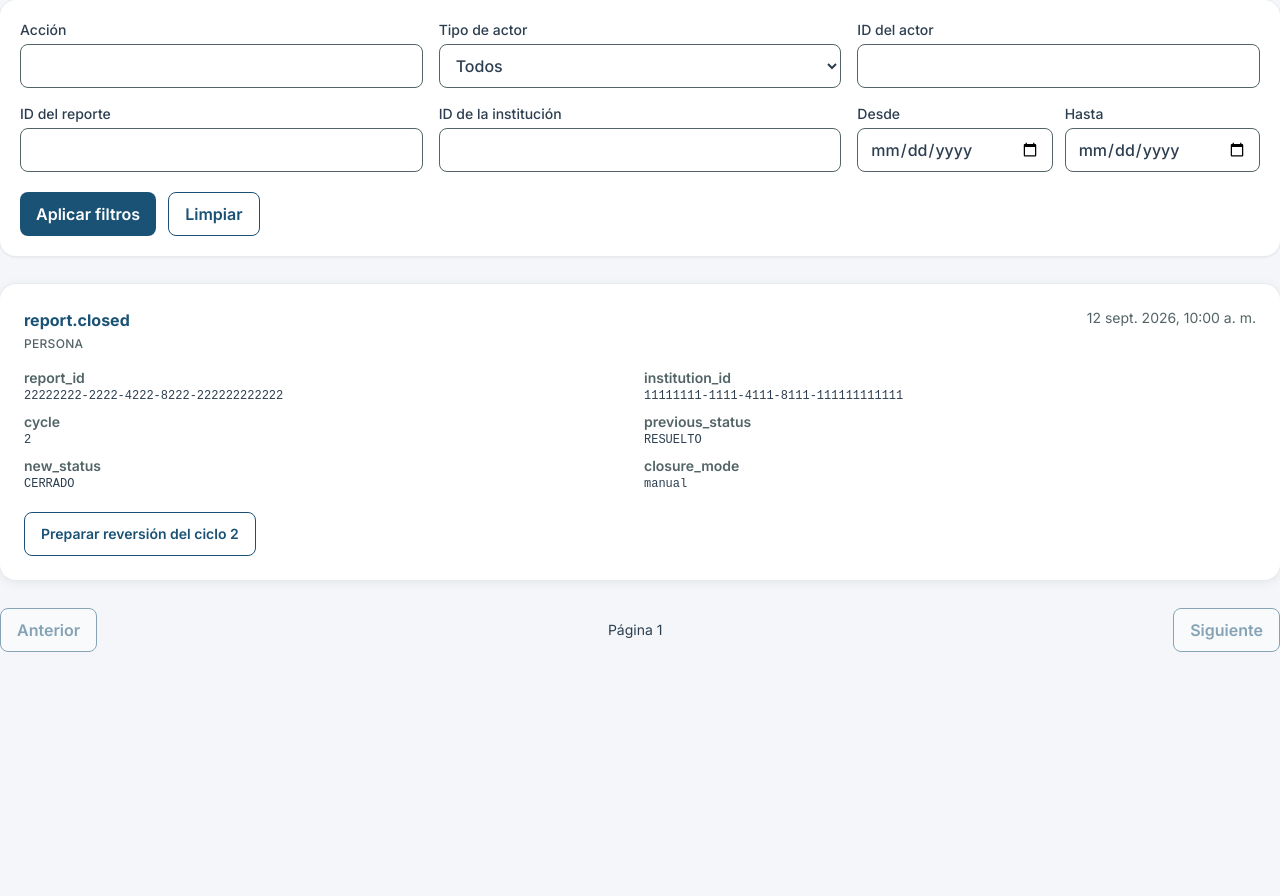
Scenario: consola administrativa S10 › ante ciclo obsoleto cierra la confirmación y actualiza la auditoría
Click the button "Preparar reversión del ciclo 2".
click(140, 534)  # box [24,512,256,556]
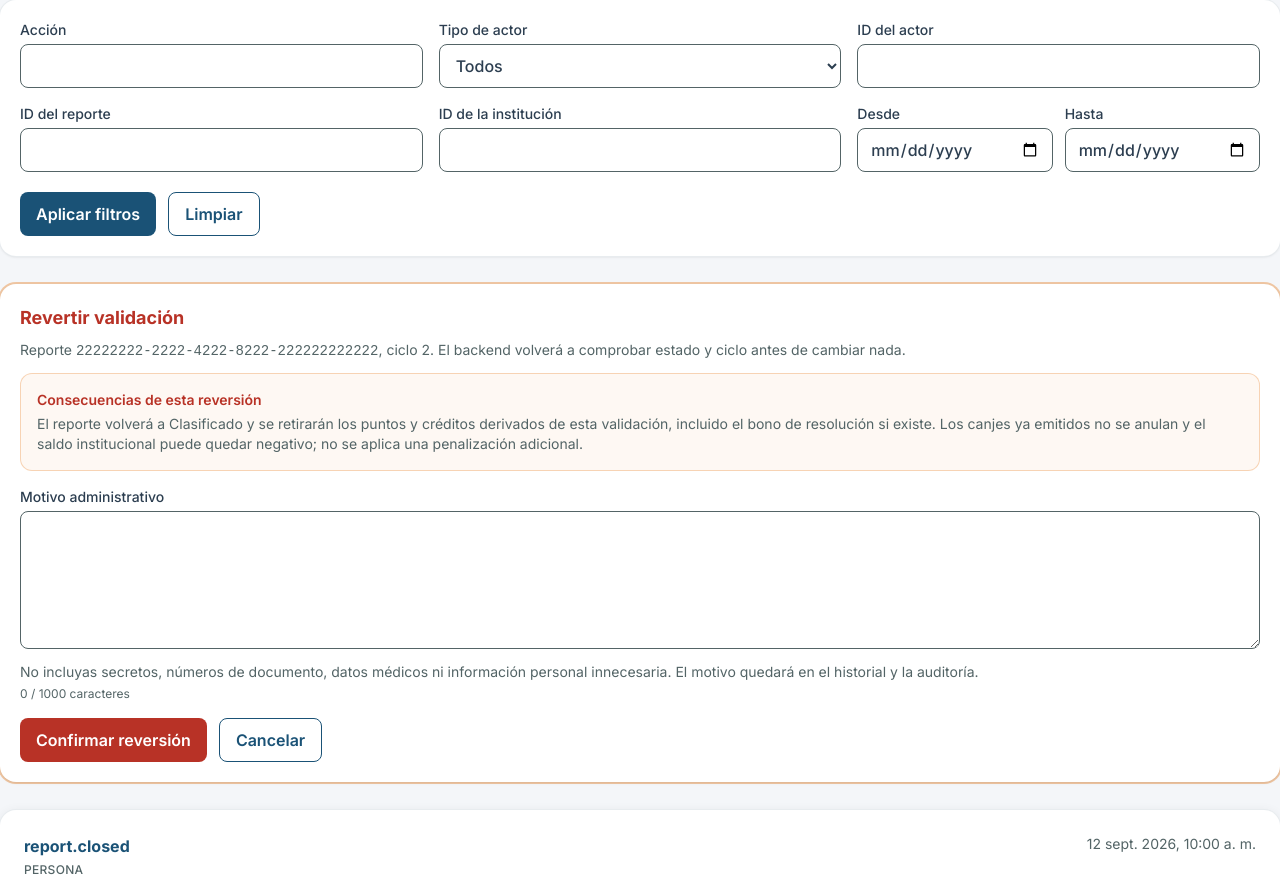
Type "Corrección fundada." into the text box labelled "Motivo administrativo".
click(640, 580); type("Corrección fundada.")  # box [20,511,1260,649]
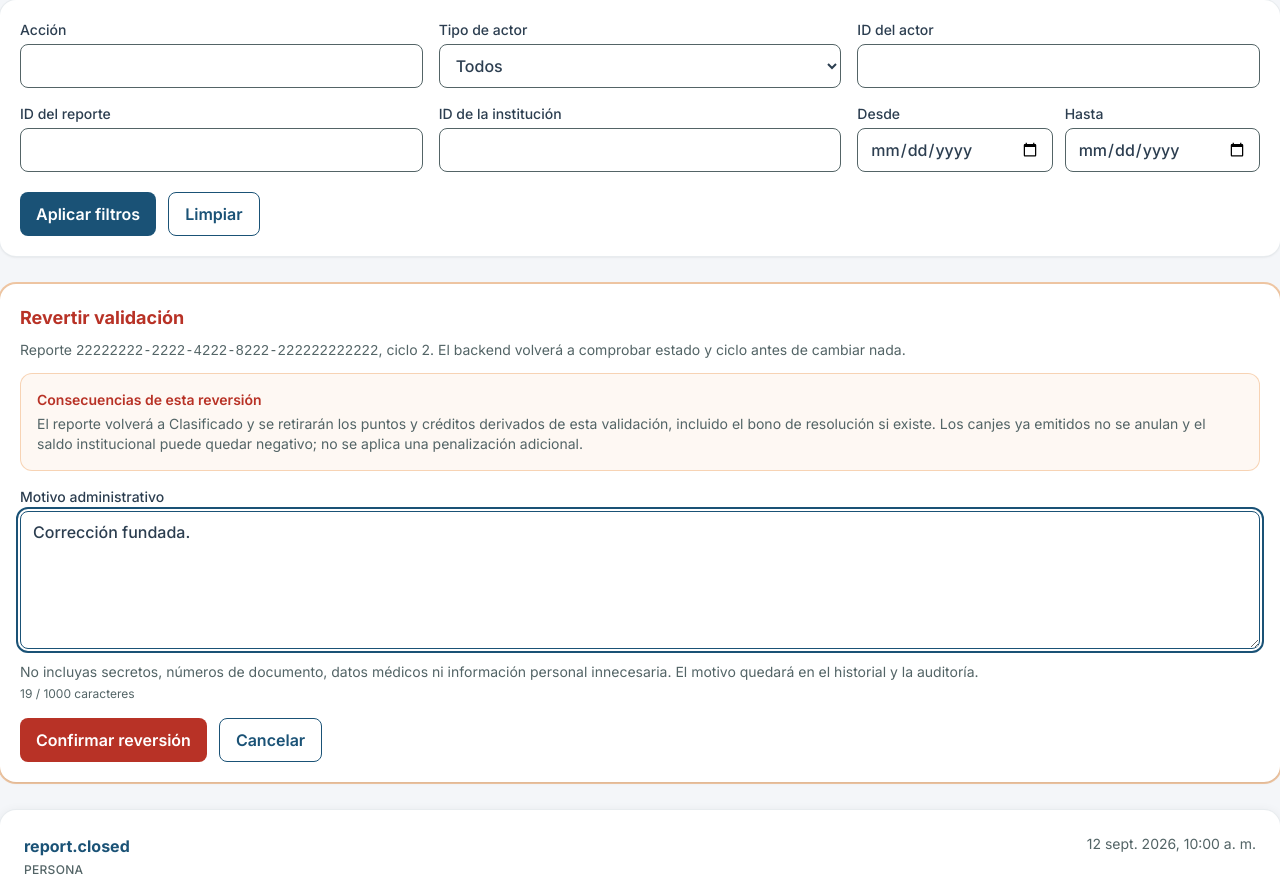
Click the button "Confirmar reversión".
click(113, 740)  # box [20,718,207,762]
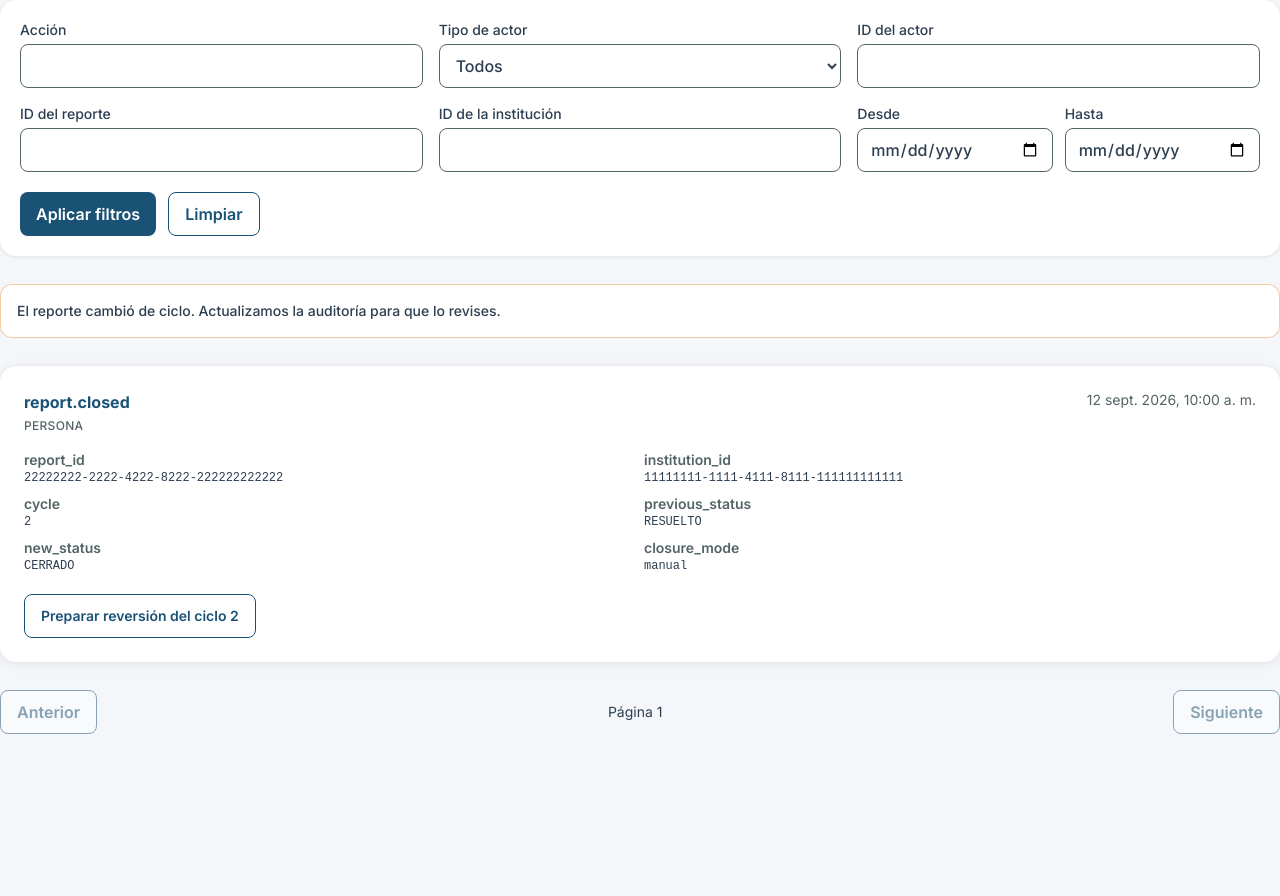
Now the message shows "cambió de ciclo", box [17,302,501,319]
Now the heading "Revertir validación" is gone
